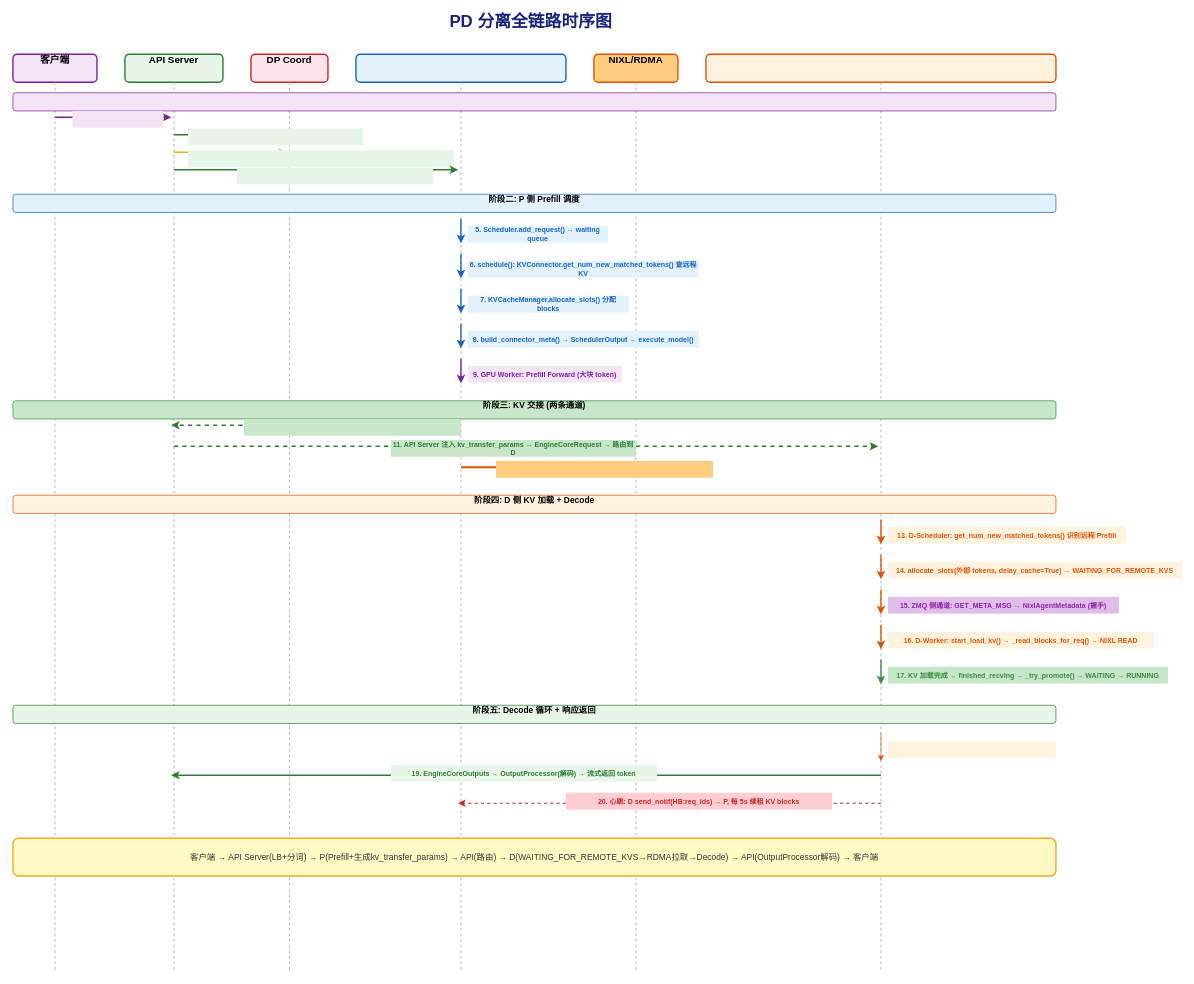
The diagram is 1194 pixels wide and 984 high, and some of its shapes have lost their labels. The shapes that lost their labels are listed below. From the top down, each one's centre as x and y in pixels, then its label:
At point 460,68: "P 节点".
At point 880,68: "D 节点".
At point 117,119: "1. POST /v1/completions".
At point 534,101: "阶段一: 请求入口 + DP 负载均衡".
At point 275,136: "2. InputProcessor 分词, 构造 EngineCoreRequest".
At point 321,158: "3. DPLBAsyncMPClient: 计算 score=waiting*4+running, 查 DC 统计, 选最优引擎".
At point 335,175: "4. ZMQ ADD EngineCoreRequest → P-EngineCoreProc".
At point 352,427: "10. request_finished() → kv_transfer_params (元数据) → API Server".
At point 604,469: "12. P KV Cache → NIXL RDMA READ → D KV Cache (GPU 直传)".
At point 972,749: "18. D-Scheduler: 每步 1 token Decode (循环)".
